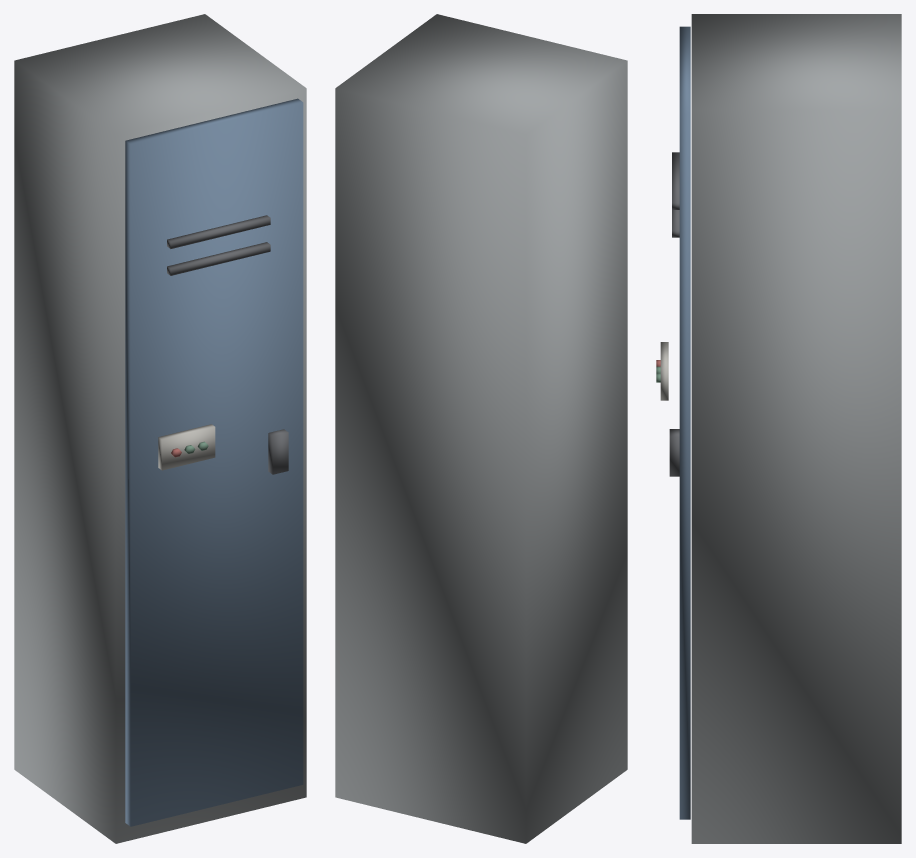
Rendered from single_locker__wide.glb.
The picture shows the model from 3 angles, left to right: view 1: azimuth 30°, elevation 25°; view 2: azimuth 150°, elevation 25°; view 3: azimuth 270°, elevation 25°; orthographic projection. The views are drawn at different scales.
Visible parts, largest first — view 1: world; view 2: world; view 3: world.
Boxes of the visible parts, x1=… form: world: x1=14, y1=14, x2=306, y2=843; world: x1=335, y1=14, x2=627, y2=843; world: x1=656, y1=14, x2=901, y2=843.
Size of the model in its own units: 0.5208 by 1.85 by 0.561.
